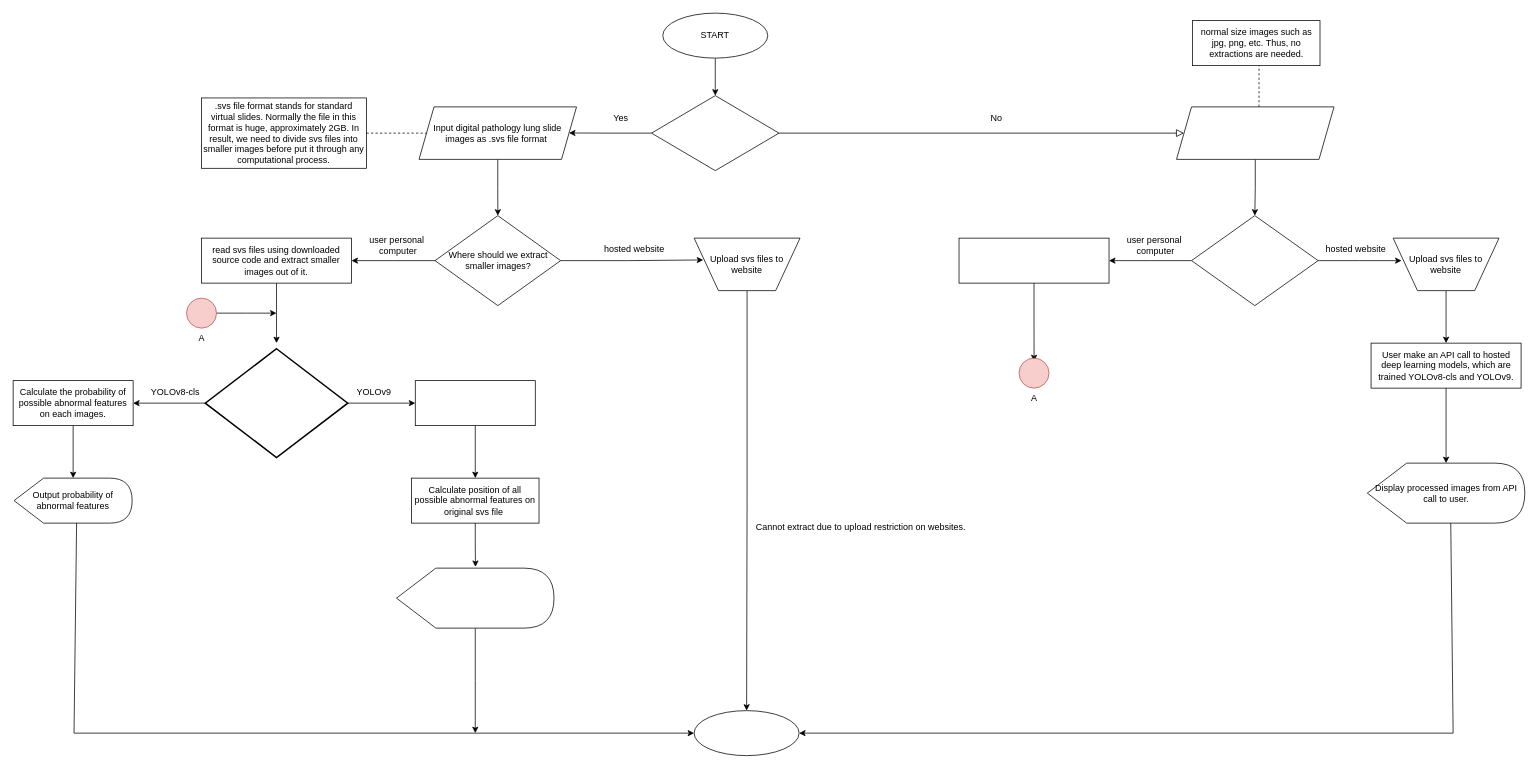
Some shapes in this 1538 by 769 pixel diagram are drawn without their labels. The box of each missing label's shape, as (x1, y1, x2, y2) in pixels:
Apply trained deep learning models on the images: (958, 237, 1109, 283)
END: (693, 710, 799, 756)
Input digital pathology lung slide images as normal size images: (1176, 106, 1334, 159)
Is production phase?: (651, 95, 779, 171)
Output approximated images of original svs files with abnormal indications.: (396, 567, 554, 628)
Specify position of possible abnormal features on each images: (415, 380, 535, 426)
Where should we use deep learning model.: (1191, 215, 1318, 306)
Which deep learning models should we use on those images?: (204, 348, 348, 458)
